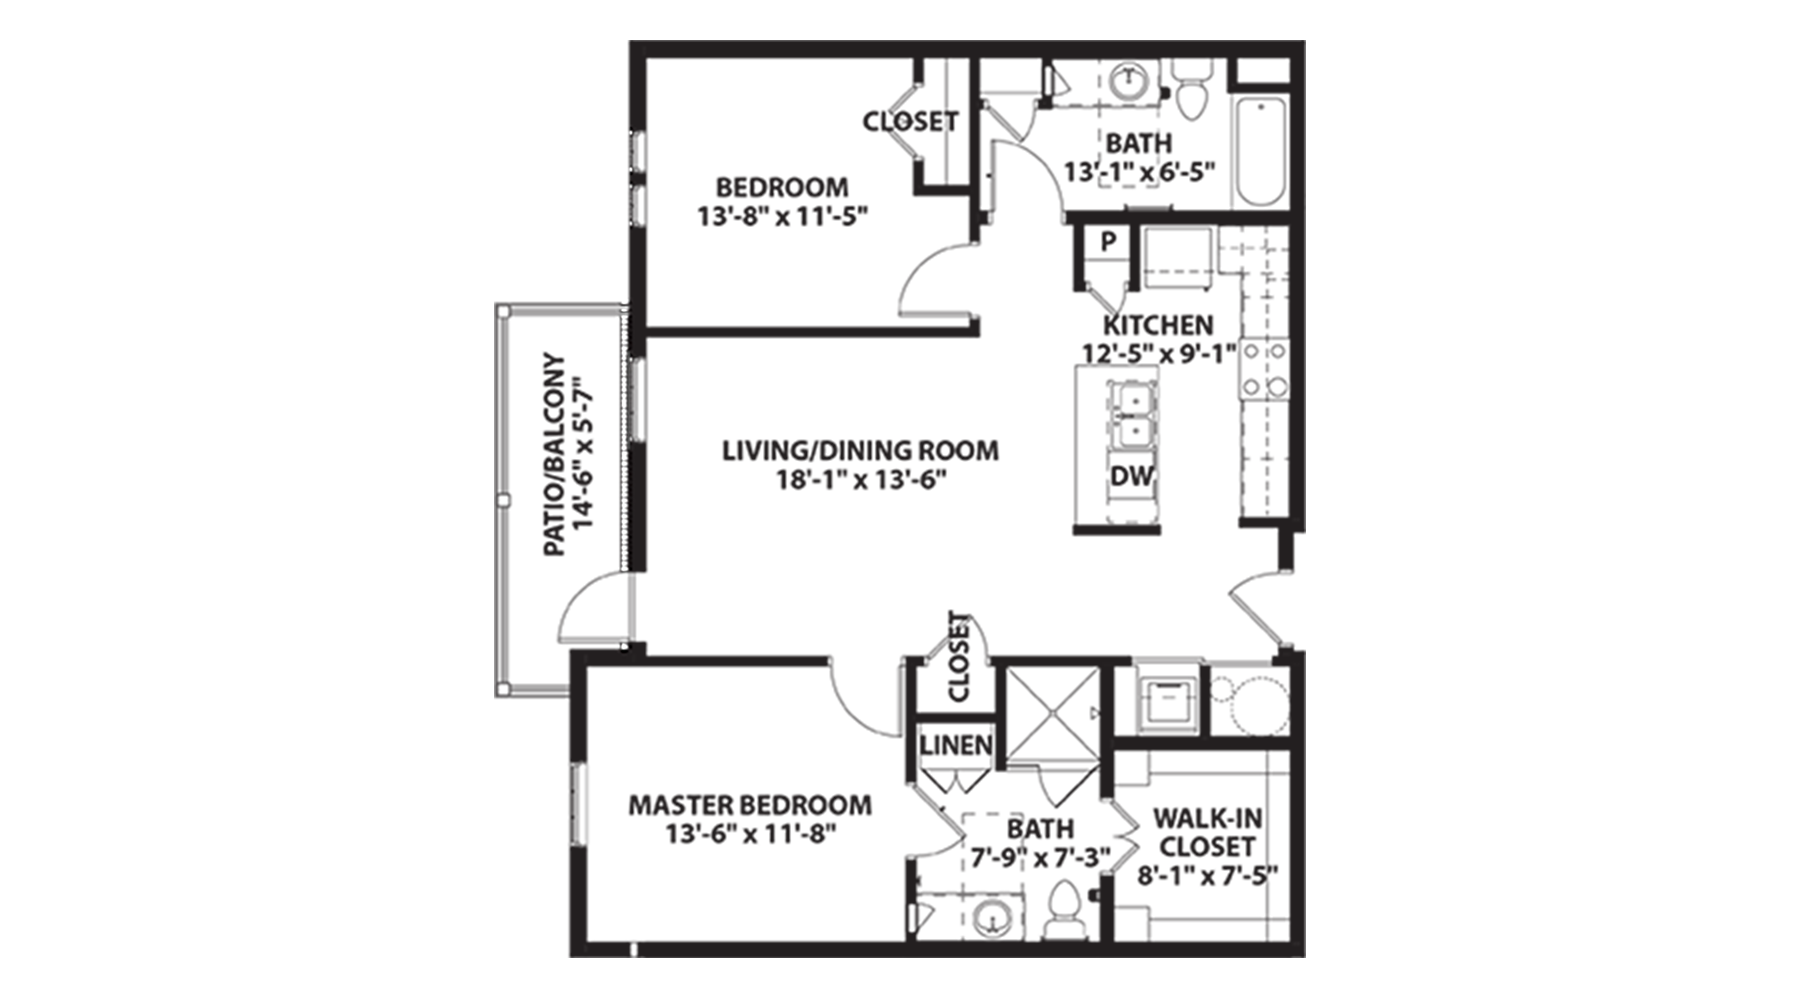balcony: (531, 350, 569, 473)
door: (1193, 564, 1273, 637), (829, 692, 907, 741), (555, 578, 605, 650), (920, 796, 968, 868), (1113, 800, 1143, 868)
room: (573, 651, 917, 954), (633, 37, 979, 335), (635, 324, 920, 664), (1058, 211, 1309, 532), (971, 39, 1311, 223), (1104, 736, 1309, 952), (906, 764, 1113, 963)
window: (564, 759, 586, 837), (629, 132, 649, 213), (628, 361, 640, 441)
